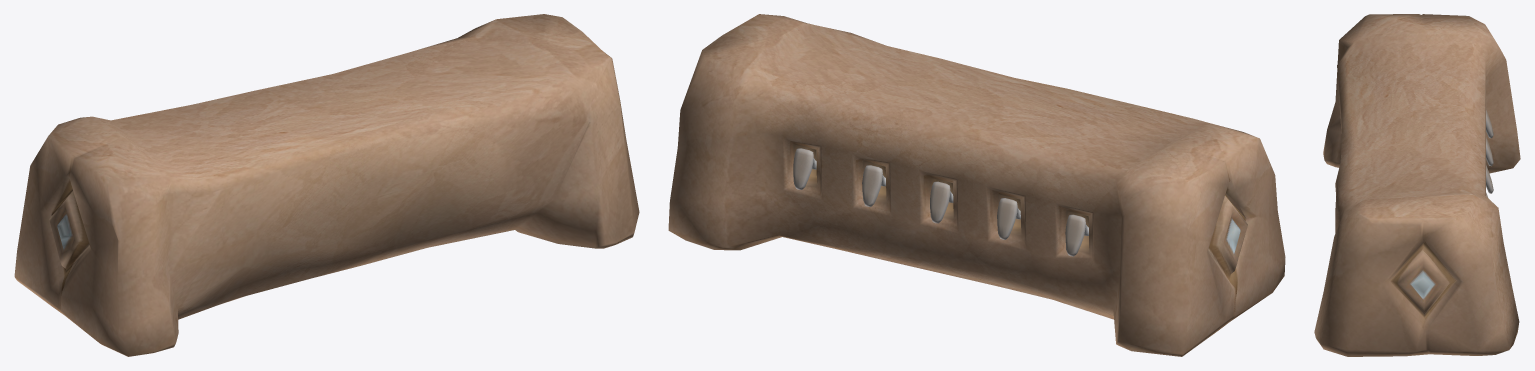
The model's file is StoneBench.glb.
3 views of the same model, side by side, from view 1: azimuth 30°, elevation 25°; view 2: azimuth 150°, elevation 25°; view 3: azimuth 270°, elevation 25° (orthographic). The views are drawn at different scales.
Parts seen in each view (by area): view 1: tripo_node_751fb518-2aad-4203-befc-d76d3f2937b9; view 2: tripo_node_751fb518-2aad-4203-befc-d76d3f2937b9; view 3: tripo_node_751fb518-2aad-4203-befc-d76d3f2937b9.
Part boxes in pixels (box(x1,y1,x2,y2)): tripo_node_751fb518-2aad-4203-befc-d76d3f2937b9: box(14, 14, 639, 356); tripo_node_751fb518-2aad-4203-befc-d76d3f2937b9: box(668, 14, 1285, 356); tripo_node_751fb518-2aad-4203-befc-d76d3f2937b9: box(1314, 14, 1520, 356).
Size of the model in its own units: 0.9995 by 0.2935 by 0.4009.
Materials: 1 (1 with a texture image).
